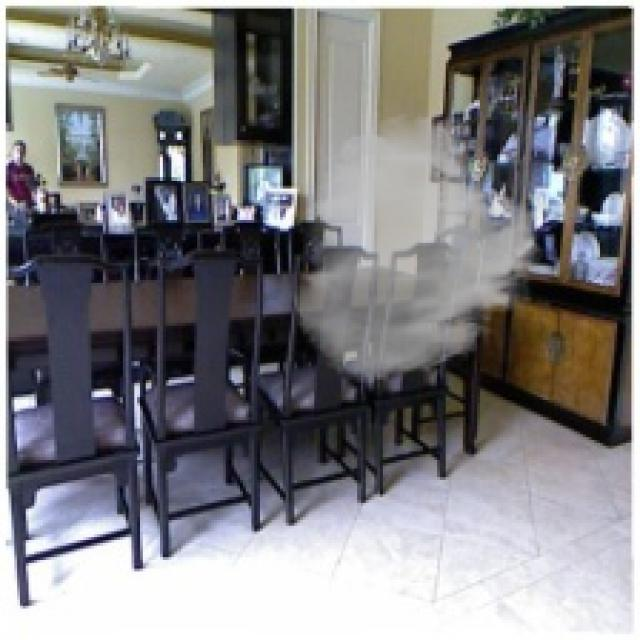smoke: (292, 111, 554, 386)
